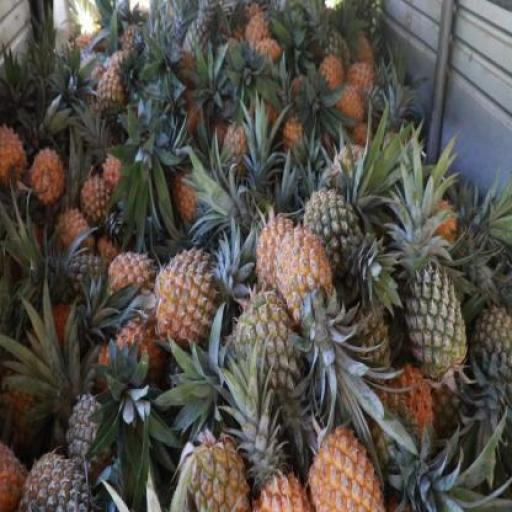------------------------------: (234, 291, 304, 390), (302, 191, 366, 289), (178, 444, 252, 511), (0, 373, 50, 448), (94, 68, 128, 126)
Pineapple - v8 v1: (305, 422, 385, 511), (277, 229, 337, 331), (154, 248, 218, 343), (256, 216, 305, 305), (116, 318, 162, 396), (108, 249, 152, 306), (80, 171, 118, 225), (32, 147, 64, 206), (0, 124, 30, 186)
